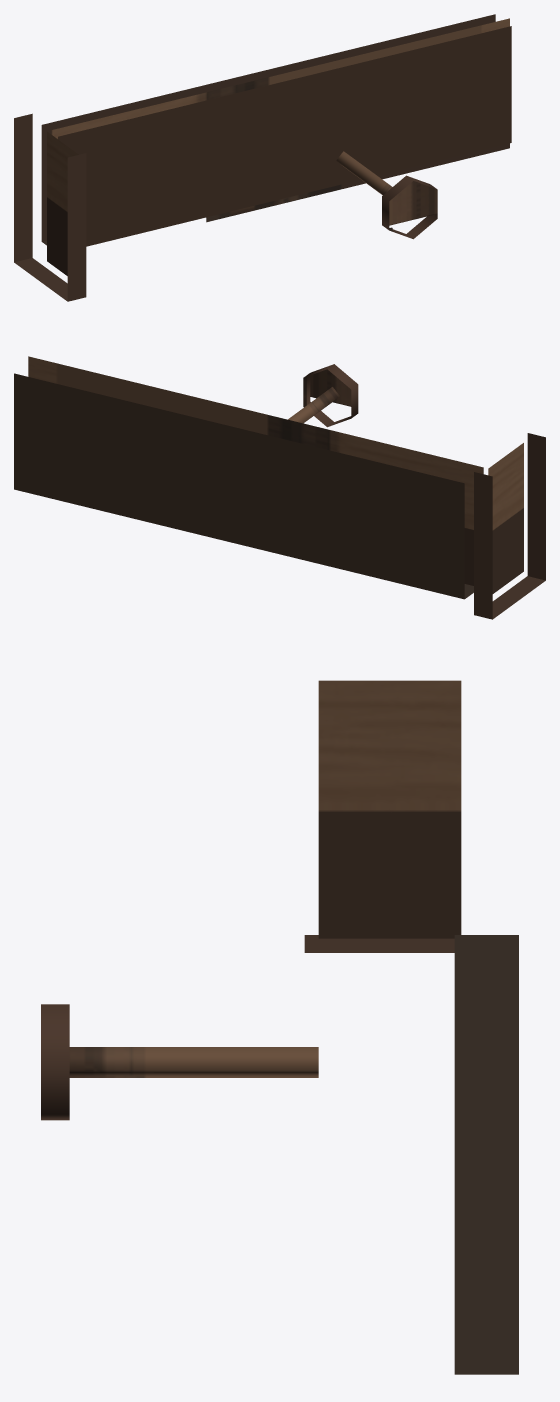
The model's file is section-3.obj.
The picture shows the model from 3 angles, top to bottom: view 1: azimuth 30°, elevation 25°; view 2: azimuth 150°, elevation 25°; view 3: azimuth 270°, elevation 25°; orthographic projection. The views are drawn at different scales.
Bounding box in the file's own units: 0.776 × 0.222 × 0.3355.
